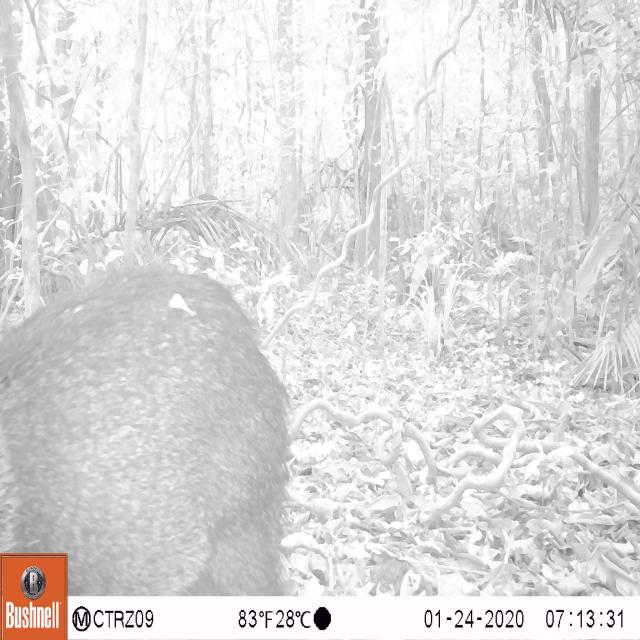Collared Peccary: (3, 267, 296, 591)
